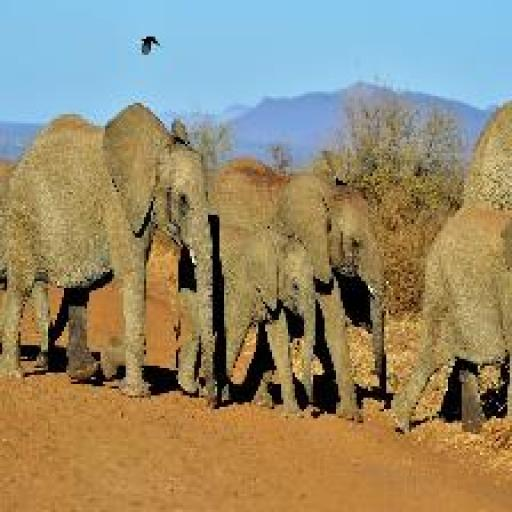Elephant: (0, 101, 215, 400), (176, 156, 389, 420), (388, 94, 510, 434)
